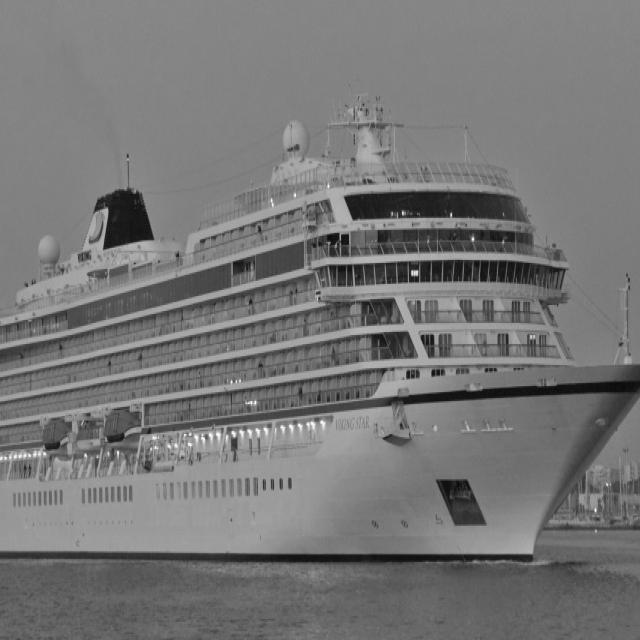cruises: (1, 78, 640, 575)
